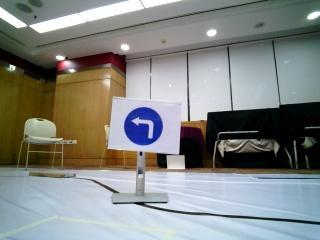left: (115, 101, 169, 151)
